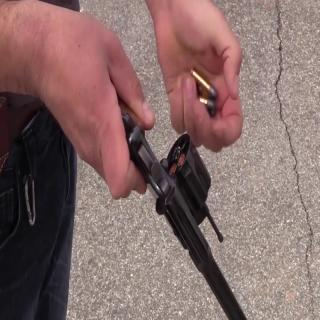gun: (92, 20, 252, 319)
